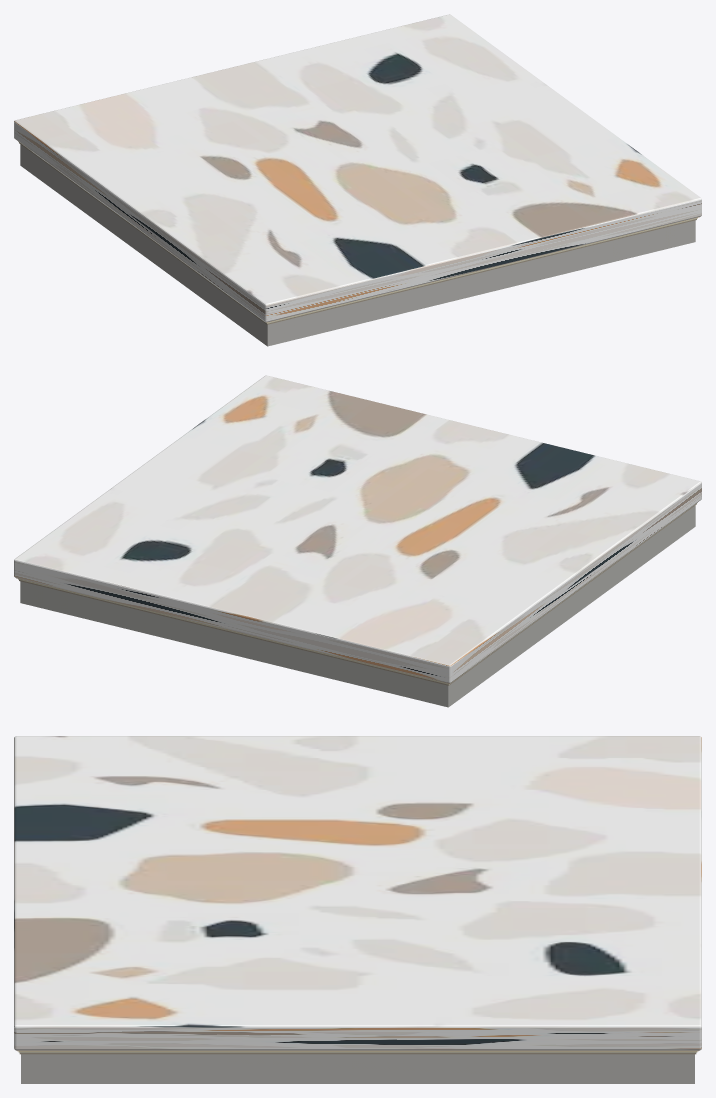
File: terrazzo-multi.glb
The picture shows the model from 3 angles, top to bottom: view 1: azimuth 30°, elevation 25°; view 2: azimuth 150°, elevation 25°; view 3: azimuth 270°, elevation 25°; orthographic projection. The views are drawn at different scales.
Visible parts, largest first — view 1: body.001, mesh-layer.001; view 2: body.001, mesh-layer.001; view 3: body.001, mesh-layer.001.
Part boxes in pixels (<box>): body.001: <box>14,14,701,322</box>; mesh-layer.001: <box>18,141,699,346</box>; body.001: <box>14,375,701,683</box>; mesh-layer.001: <box>16,502,697,707</box>; body.001: <box>14,736,701,1050</box>; mesh-layer.001: <box>16,1050,699,1083</box>.
Bounding box in the file's own units: 0.297 × 0.029 × 0.297.
Materials: 2 (2 with a texture image).
